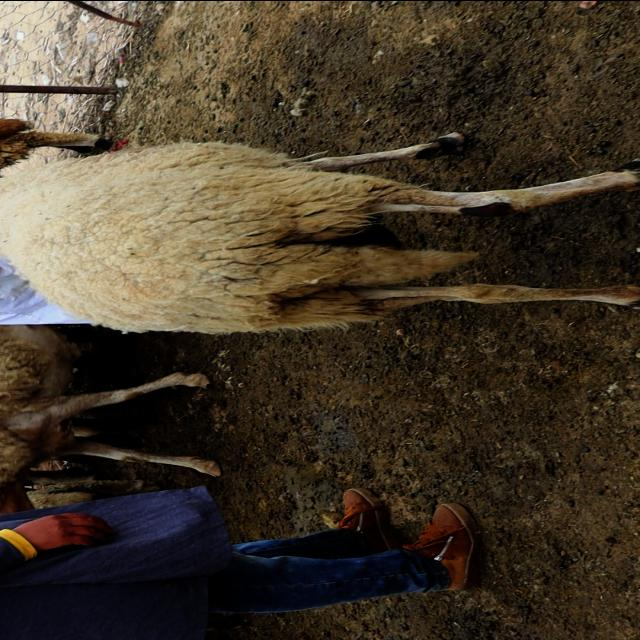Score_5: (0, 132, 639, 333)
